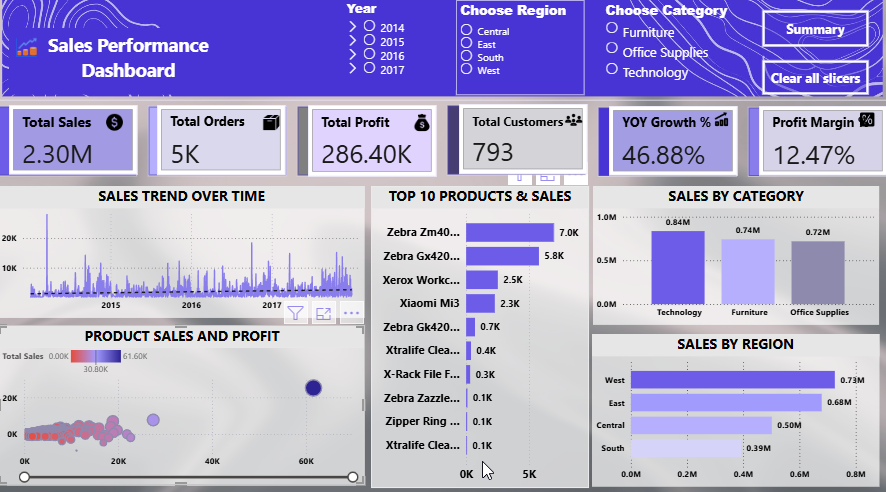

Layout of this report page (visuals, bound fields, positions):
{"tool":"powerbi","page":{"name":"Sales Dashboard","canvas":[1280,720],"ordinal":0},"visuals":[{"type":"group","id":"g1","title":"Group 1","box":[0,158,200,102.5],"z":0,"group":"g7"},{"type":"shape","box":[646.5,159,200,100.8],"z":0,"group":"g4"},{"type":"shape","box":[0,159.7,200,100.8],"z":0,"group":"g1"},{"type":"shape","box":[431,159.7,199.9,100.8],"z":0,"group":"g3"},{"type":"shape","box":[215.5,161,200,100.8],"z":0,"group":"g2"},{"type":"shape","box":[1080,161.3,200,100],"z":0,"group":"g6"},{"type":"shape","box":[864.5,161.4,200,100],"z":0,"group":"g5"},{"type":"lineChart","title":"SALES TREND OVER TIME","fields":{"Y":["Sales.Total Sales"],"Category":["Date Table.Date"]},"box":[0,275,528.5,190.1],"z":0},{"type":"cardVisual","fields":{"Data":["Sales.Total Customers"]},"box":[664.4,157,184.6,100.8],"z":1000,"group":"g4"},{"type":"cardVisual","fields":{"Data":["Sales.Total Sales"]},"box":[15.4,158,184.6,100],"z":1000,"group":"g1"},{"type":"cardVisual","fields":{"Data":["Sales.Total Profit"]},"box":[446.4,158,184.6,102.5],"z":1000,"group":"g3"},{"type":"group","id":"g2","title":"Group 2","box":[215.5,158.9,200,103],"z":1000,"group":"g7"},{"type":"cardVisual","fields":{"Data":["Sales.Total Orders"]},"box":[229.2,158.9,184.6,100.8],"z":1000,"group":"g2"},{"type":"cardVisual","fields":{"Data":["Sales.Profit Margin %"]},"box":[1095.4,159.2,184.6,100],"z":1000,"group":"g6"},{"type":"cardVisual","fields":{"Data":["Sales.YOY Growth %"]},"box":[879.9,159.7,184.6,100],"z":1000,"group":"g5"},{"type":"barChart","title":"SALES BY REGION","fields":{"Y":["Sales.Total Sales"],"Category":["Geography.Region Hierarchy.Region","Geography.Region Hierarchy.State","Geography.Region Hierarchy.City"]},"box":[854.7,488.5,413.6,220.5],"z":1000},{"type":"image","box":[0,0,1280,152.1],"z":2000},{"type":"group","id":"g3","title":"Group 3","box":[431,158,199.9,102.5],"z":2000,"group":"g7"},{"type":"group","id":"g4","title":"Group 4","box":[646.5,157,202.5,102.9],"z":3000,"group":"g7"},{"type":"scatterChart","title":"PRODUCT SALES AND PROFIT","fields":{"X":["Sales.Total Sales"],"Size":["Sum(Sales.Profit)"],"Y":["Sum(Sales.Profit)"],"Category":["Products.Product Name"]},"box":[0,475.1,528.1,230.7],"z":3000},{"type":"group","id":"g5","title":"Group 5","box":[864.5,159.7,200,101.7],"z":4000,"group":"g7"},{"type":"columnChart","title":"SALES BY CATEGORY","fields":{"Category":["Products.Category"],"Y":["Sales.Total Sales"]},"box":[856.8,275,411.8,200.2],"z":4000},{"type":"group","id":"g6","title":"Group 6","box":[1080,159.2,200,102.1],"z":5000,"group":"g7"},{"type":"barChart","title":"TOP 10 PRODUCTS & SALES","fields":{"Category":["Products.Product Name"],"Y":["Sales.Total Sales"]},"box":[537.1,275,313.9,434.9],"z":5000},{"type":"listSlicer","title":"Choose Category","fields":{"Values":["Products.Category"]},"box":[869.9,6.8,203.4,123],"z":6000},{"type":"listSlicer","title":"Year","fields":{"Values":["Date Table.Year","Date Table.Month Name","Date Table.Date"]},"box":[497.3,6.8,145.3,136.7],"z":7000},{"type":"listSlicer","title":"Choose Region","fields":{"Values":["Geography.Region"]},"box":[659.7,6.8,184.6,136.7],"z":8000},{"type":"actionButton","box":[1100.2,93.6,154.1,50.4],"z":9000},{"type":"actionButton","title":"Key Points","box":[1100.2,21.6,154.1,53.3],"z":10000},{"type":"textbox","box":[15.4,47.9,343.5,95.7],"z":11000},{"type":"group","id":"g7","title":"Group 7","box":[0,157,1280.2,105.1],"z":12000},{"type":"image","box":[1022.4,159.8,38.9,38.9],"z":13000},{"type":"image","box":[809.3,159.8,38.9,38.9],"z":14000},{"type":"image","box":[590.4,164.2,40.3,38.9],"z":15000},{"type":"image","box":[373,164.5,40.3,38.9],"z":15001,"group":"g7"},{"type":"image","box":[148.3,162.7,38.9,40.3],"z":16000},{"type":"image","box":[1234.1,161.3,34.6,36],"z":17000},{"type":"image","box":[15.8,50.4,50.4,50.4],"z":18000}]}

Visuals, with their boxes in screenshot pixels (x1, y1, x2, y2), scaled from the page's 1280x720 canvas onto the 886x492 screenshot:
"Group 1" group: 0, 108, 138, 178
shape: 447, 109, 586, 178
shape: 0, 109, 138, 178
shape: 298, 109, 437, 178
shape: 149, 110, 288, 179
shape: 748, 110, 885, 179
shape: 598, 110, 737, 179
"SALES TREND OVER TIME" lineChart: 0, 188, 366, 318
cardVisual - Sales.Total Customers: 460, 107, 588, 176
cardVisual - Sales.Total Sales: 11, 108, 138, 176
cardVisual - Sales.Total Profit: 309, 108, 437, 178
"Group 2" group: 149, 109, 288, 179
cardVisual - Sales.Total Orders: 159, 109, 286, 177
cardVisual - Sales.Profit Margin %: 758, 109, 885, 177
cardVisual - Sales.YOY Growth %: 609, 109, 737, 177
"SALES BY REGION" barChart: 592, 334, 878, 484
image: 0, 0, 885, 104
"Group 3" group: 298, 108, 437, 178
"Group 4" group: 447, 107, 588, 178
"PRODUCT SALES AND PROFIT" scatterChart: 0, 325, 366, 482
"Group 5" group: 598, 109, 737, 179
"SALES BY CATEGORY" columnChart: 593, 188, 878, 325
"Group 6" group: 748, 109, 885, 179
"TOP 10 PRODUCTS & SALES" barChart: 372, 188, 589, 485
"Choose Category" listSlicer: 602, 5, 743, 89
"Year" listSlicer: 344, 5, 445, 98
"Choose Region" listSlicer: 457, 5, 584, 98
actionButton: 762, 64, 868, 98
"Key Points" actionButton: 762, 15, 868, 51
textbox: 11, 33, 248, 98
"Group 7" group: 0, 107, 885, 179
image: 708, 109, 735, 136
image: 560, 109, 587, 136
image: 409, 112, 437, 139
image: 258, 112, 286, 139
image: 103, 111, 130, 139
image: 854, 110, 878, 135
image: 11, 34, 46, 69
